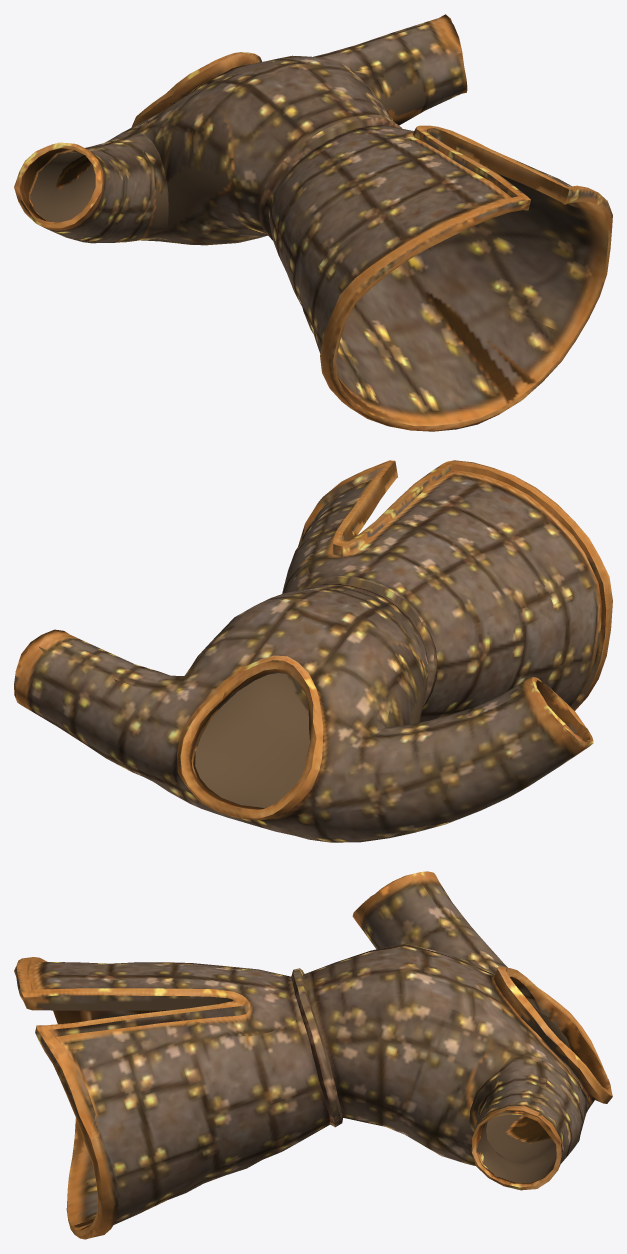
The model's file is item_mm9_10094.glb.
The picture shows the model from 3 angles, top to bottom: view 1: azimuth 30°, elevation 25°; view 2: azimuth 150°, elevation 25°; view 3: azimuth 270°, elevation 25°; orthographic projection. The views are drawn at different scales.
Parts seen in each view (by area): view 1: d10094; view 2: d10094; view 3: d10094.
Part boxes in pixels (bbox=[...]): d10094: bbox=[14, 14, 612, 431]; d10094: bbox=[14, 460, 612, 842]; d10094: bbox=[14, 871, 612, 1239].
Bounding box in the file's own units: 0.9969 × 0.4677 × 1.01.
1 material, 1 textured.
